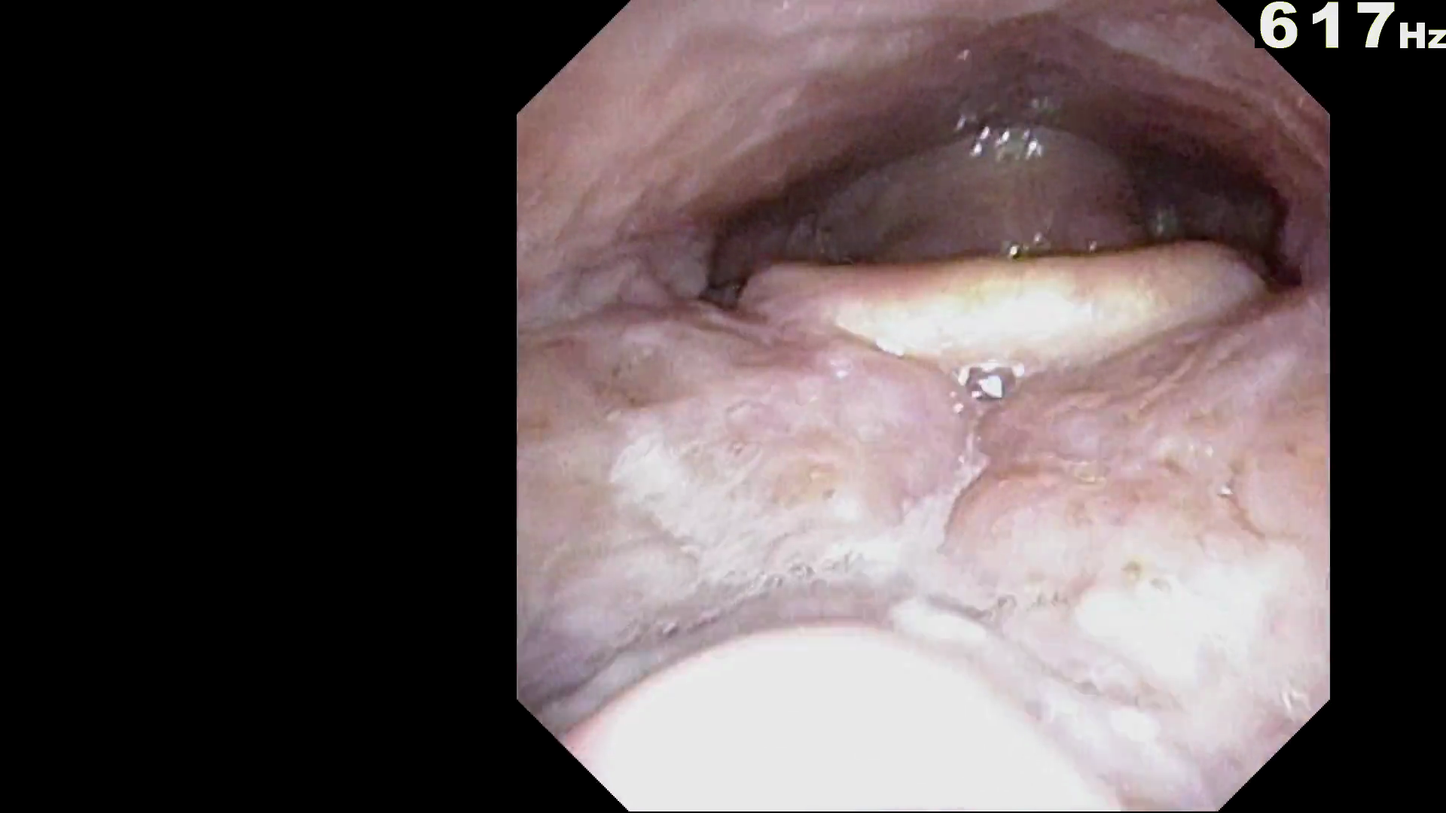epiglottis: (714, 211, 1293, 478)
trachea: (957, 205, 1048, 285)
